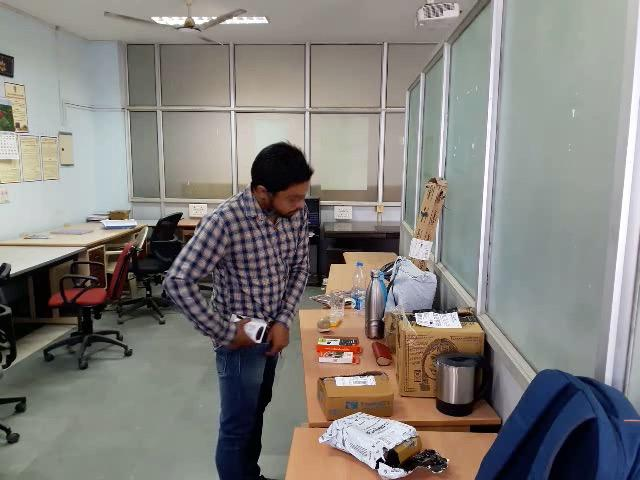shoplifting: (151, 257, 336, 458)
